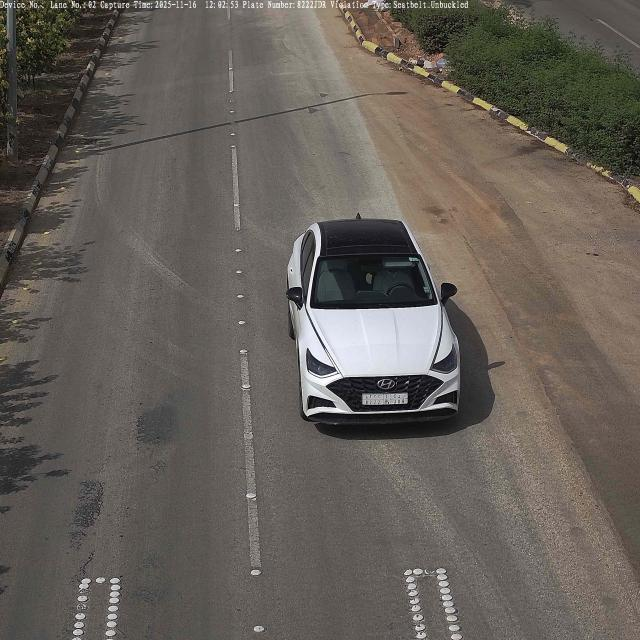person_without_seatbelt: (374, 257, 416, 302)
